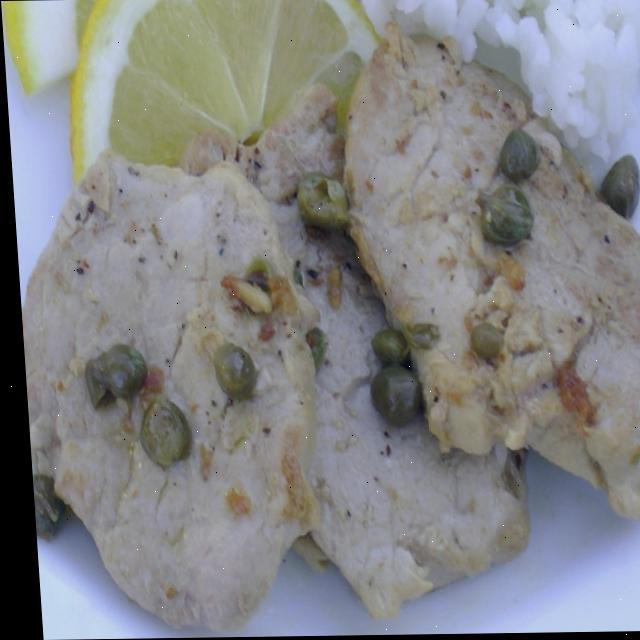猪肉菜式: (0, 0, 640, 628)
